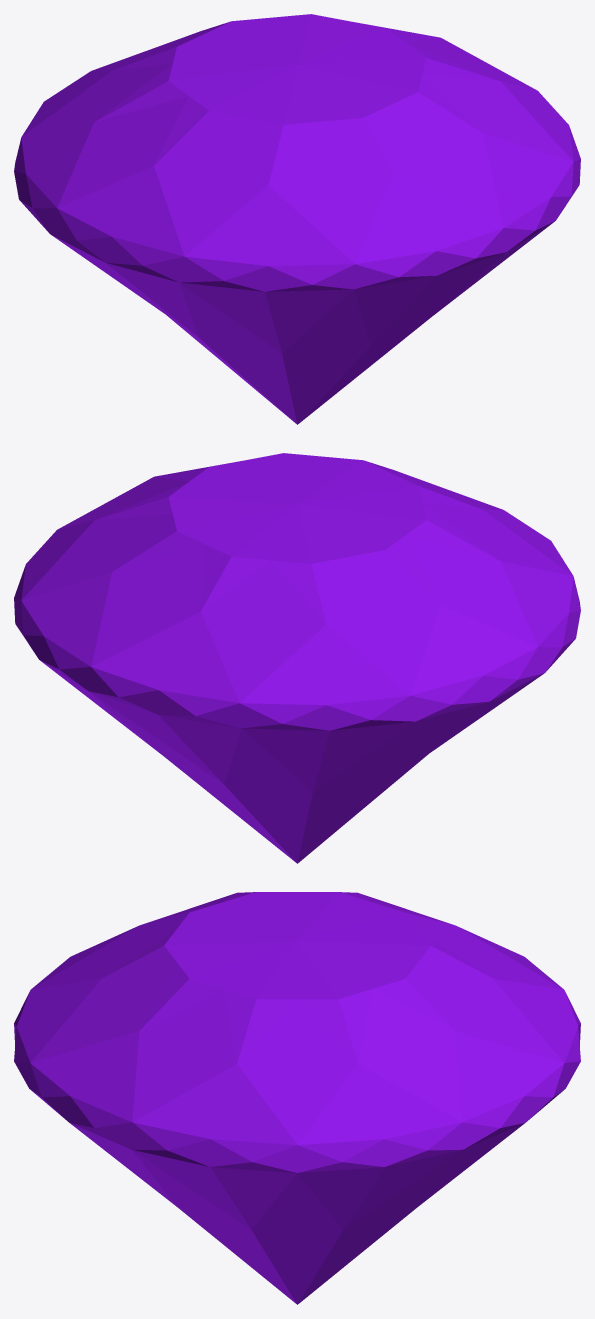
The model's file is PurpleDiamond.fbx.
3 views of the same model, one above another, from view 1: azimuth 30°, elevation 25°; view 2: azimuth 150°, elevation 25°; view 3: azimuth 270°, elevation 25° (orthographic).
Parts seen in each view (by area): view 1: diamond_geo; view 2: diamond_geo; view 3: diamond_geo.
Part boxes in pixels (bbox=[...]): diamond_geo: bbox=[14, 14, 580, 424]; diamond_geo: bbox=[14, 453, 580, 863]; diamond_geo: bbox=[14, 892, 580, 1304].
Bounding box in the file's own units: 117 × 81.16 × 115.
1 material, 1 textured.
